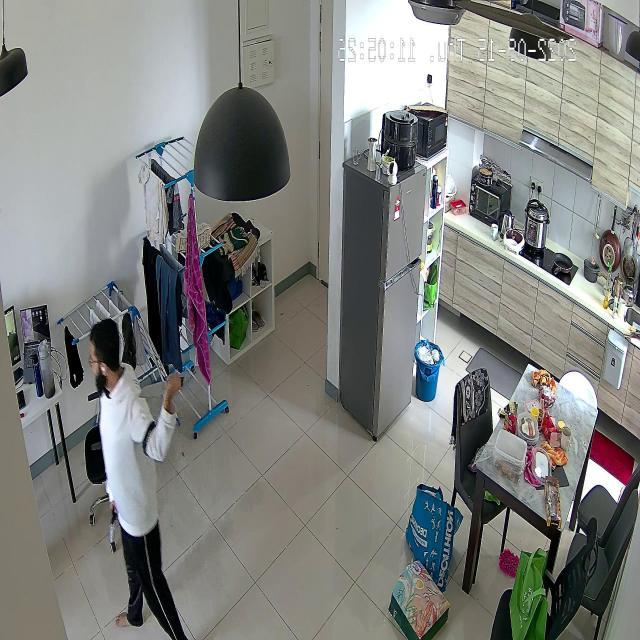Knife: (134, 369, 198, 408)
